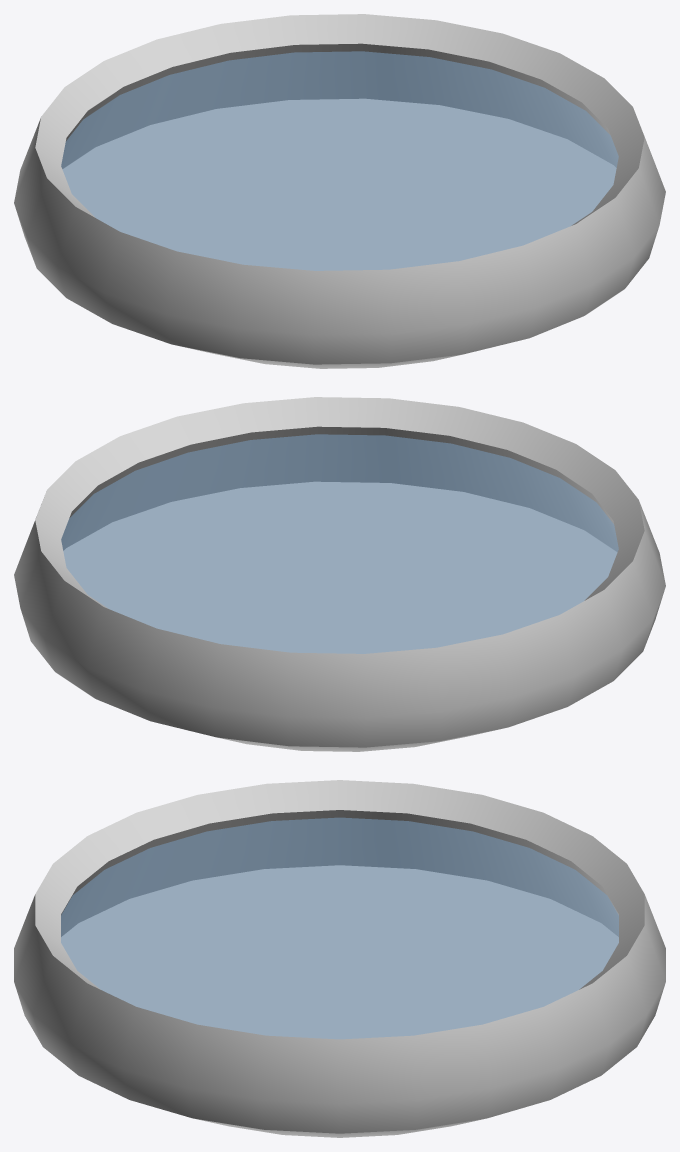
Rendered from compass_base.dae.
3 views of the same model, one above another, from view 1: azimuth 30°, elevation 25°; view 2: azimuth 150°, elevation 25°; view 3: azimuth 270°, elevation 25° (orthographic).
Visible parts, largest first — view 1: Compass, Face; view 2: Compass, Face; view 3: Compass, Face.
Part boxes in pixels (x1,y1,x2,y2): Compass: (14,14,665,368); Face: (61,51,618,270); Compass: (14,397,665,751); Face: (61,434,618,653); Compass: (14,780,665,1137); Face: (61,817,618,1039).
Bounding box in the file's own units: 0.1872 × 0.1859 × 0.0399.
